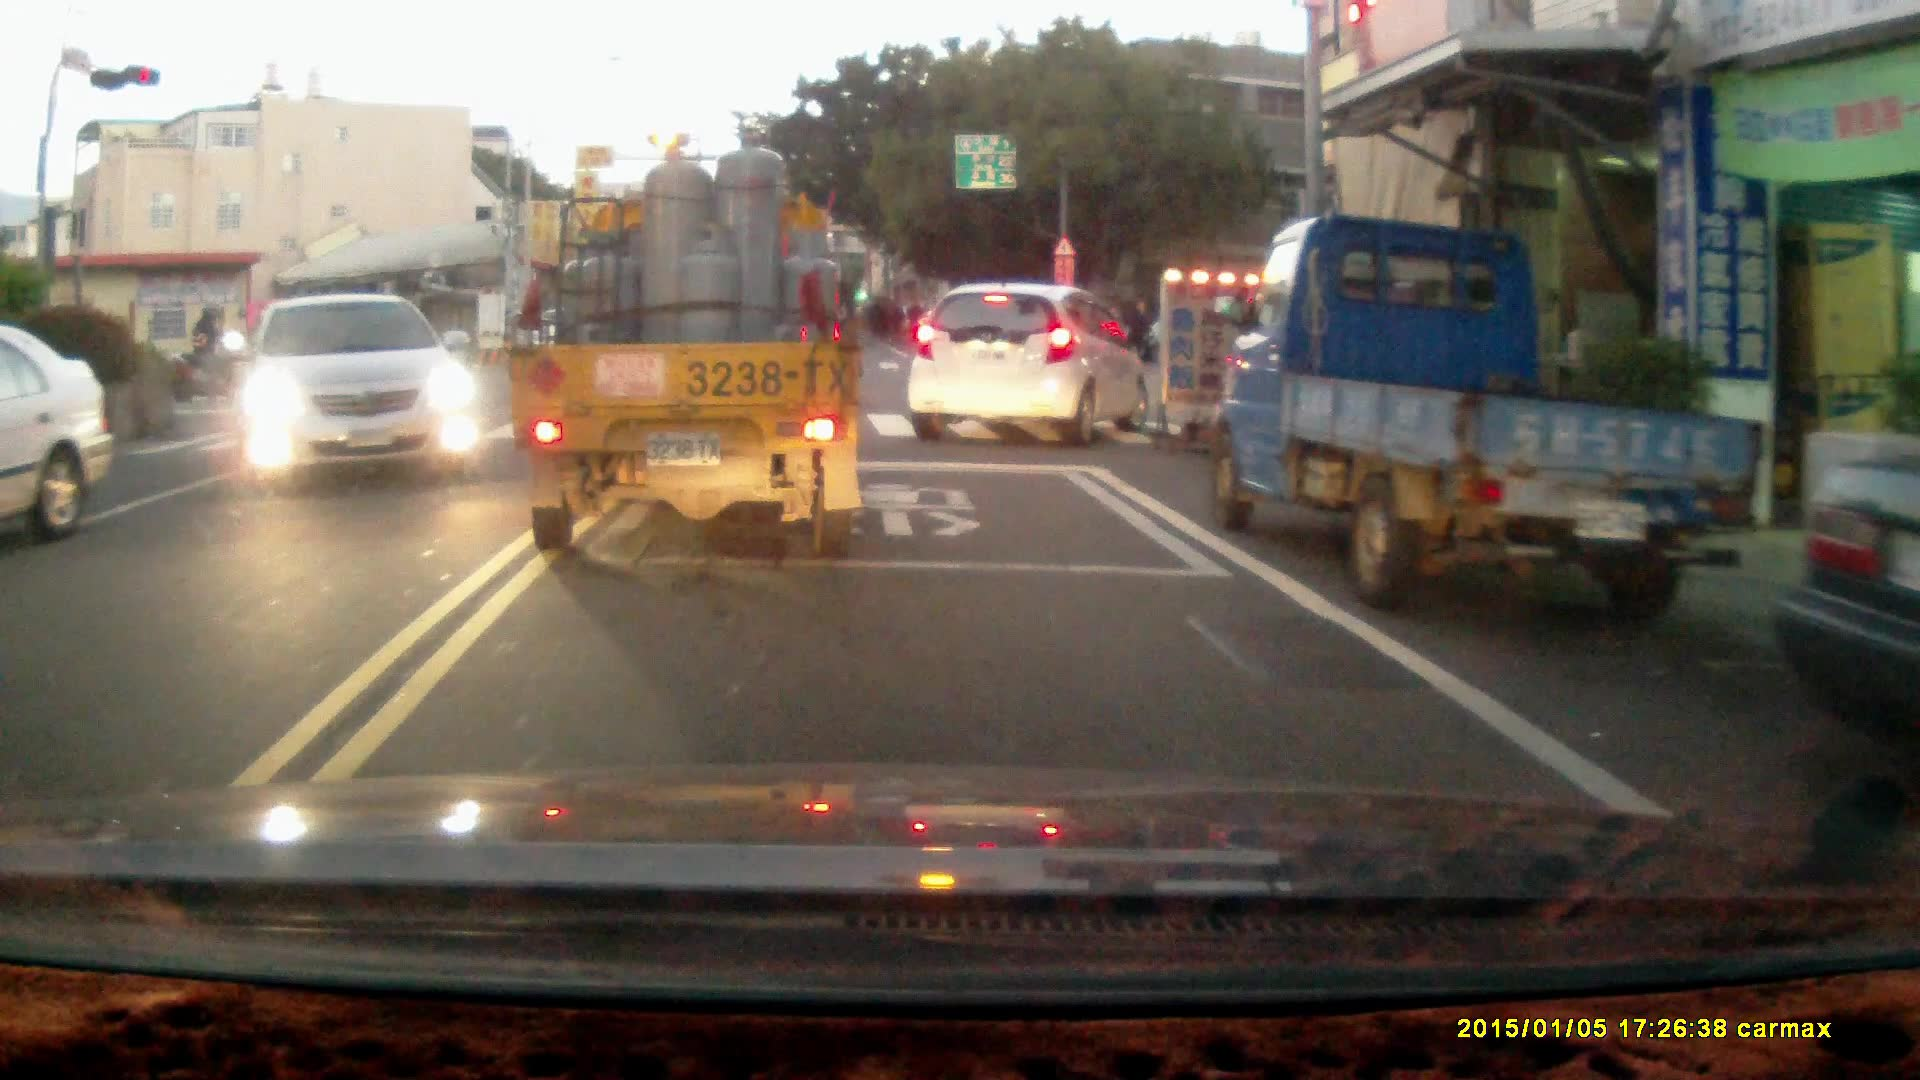rider: (169, 307, 253, 403)
vehicle: (1216, 207, 1765, 614), (519, 124, 871, 556), (234, 297, 484, 487), (905, 283, 1156, 444), (1, 329, 115, 554)
